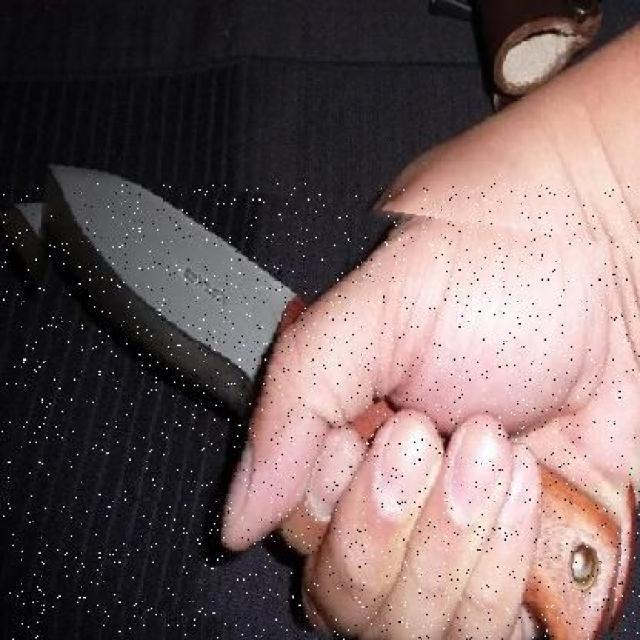knife: (1, 183, 640, 640)
